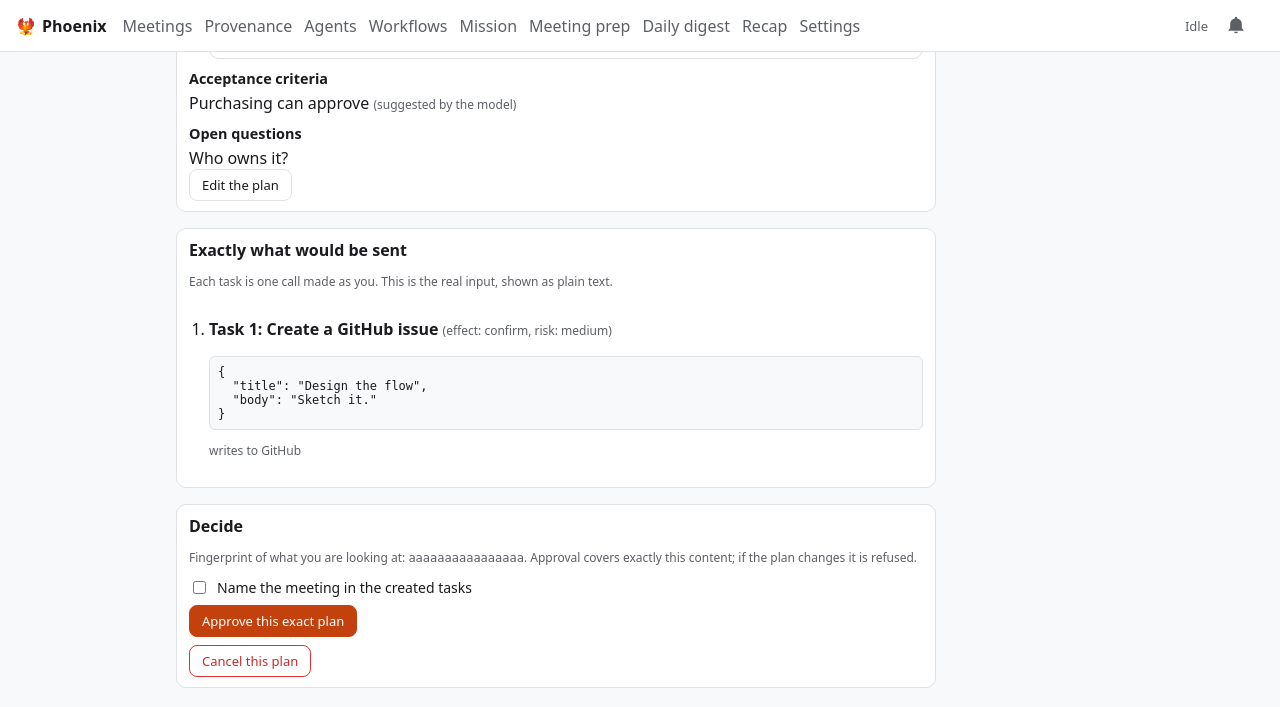
Test case: Plan page › a stale hash is refused, shown, and the plan is reloaded to what Core now has
(page scrolled)
Click the button "Approve this exact plan".
click(273, 621)  # box x1=189 y1=605 x2=357 y2=637
(page scrolled)
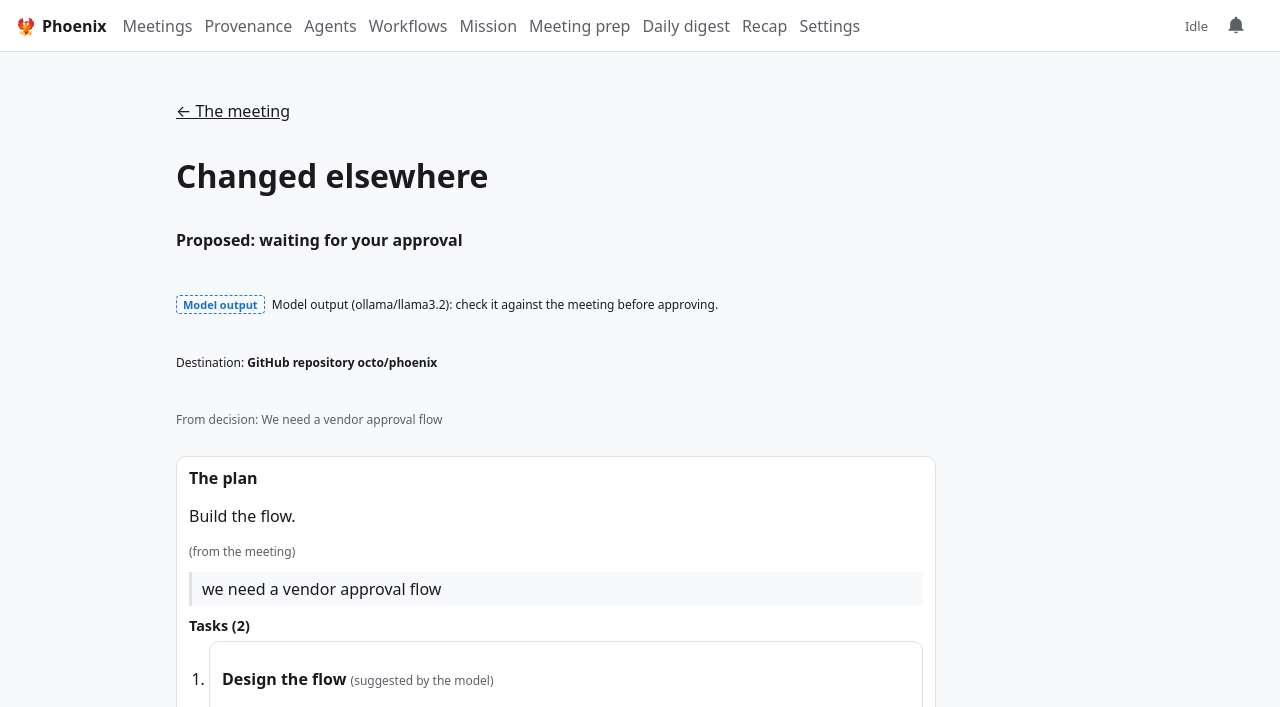
Expected: the text "Proposed: waiting for your approval" is shown, x1=176 y1=229 x2=463 y2=251
Expected: the heading "Changed elsewhere" is shown, x1=176 y1=154 x2=488 y2=197
